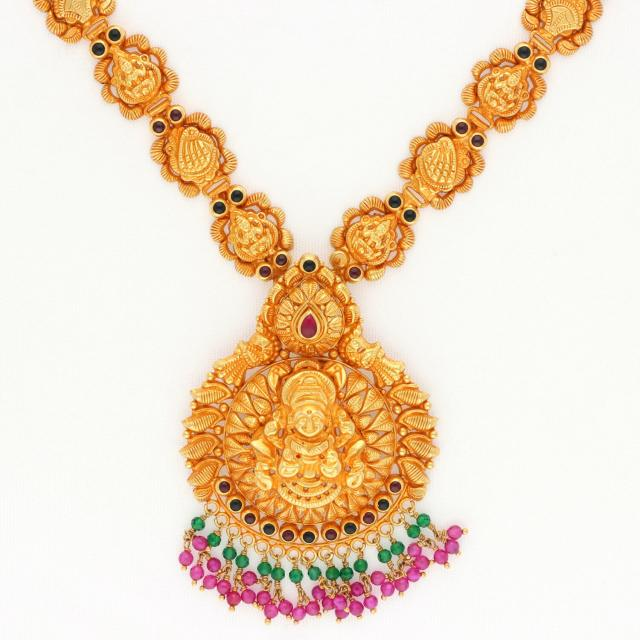missing gem: (333, 253, 345, 265)
